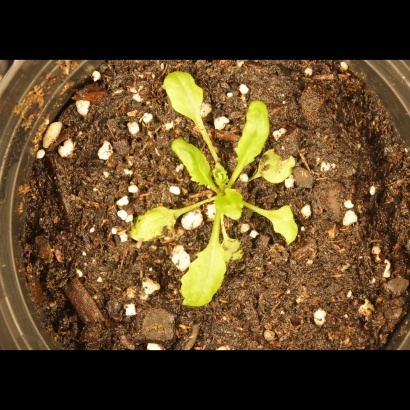leaf: (176, 233, 245, 318), (231, 95, 273, 171), (121, 198, 185, 247), (161, 64, 209, 129), (165, 132, 215, 187), (263, 200, 308, 253), (256, 146, 300, 191), (213, 186, 249, 225), (209, 158, 234, 192)
